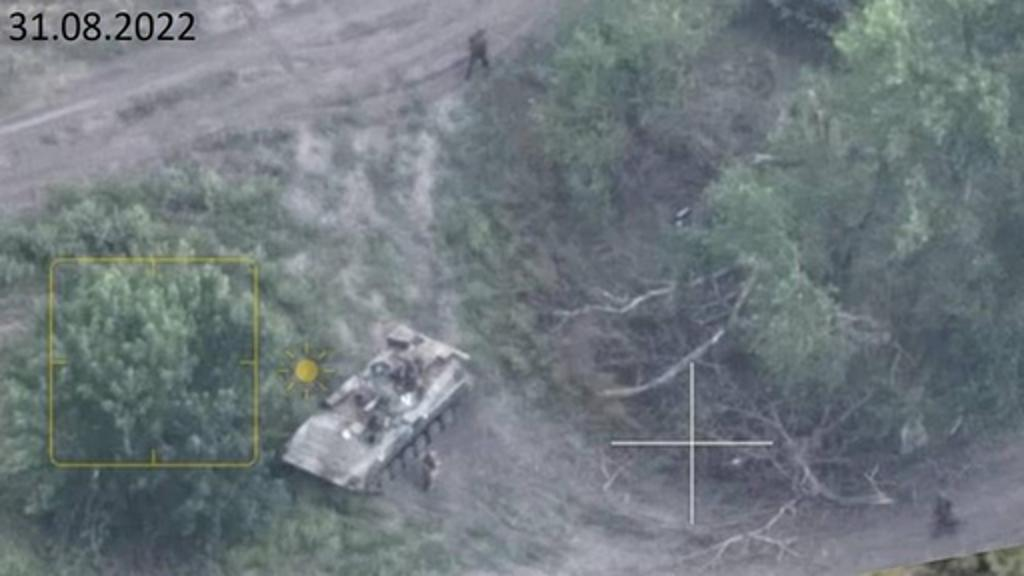APC-IFV: (266, 328, 474, 496)
